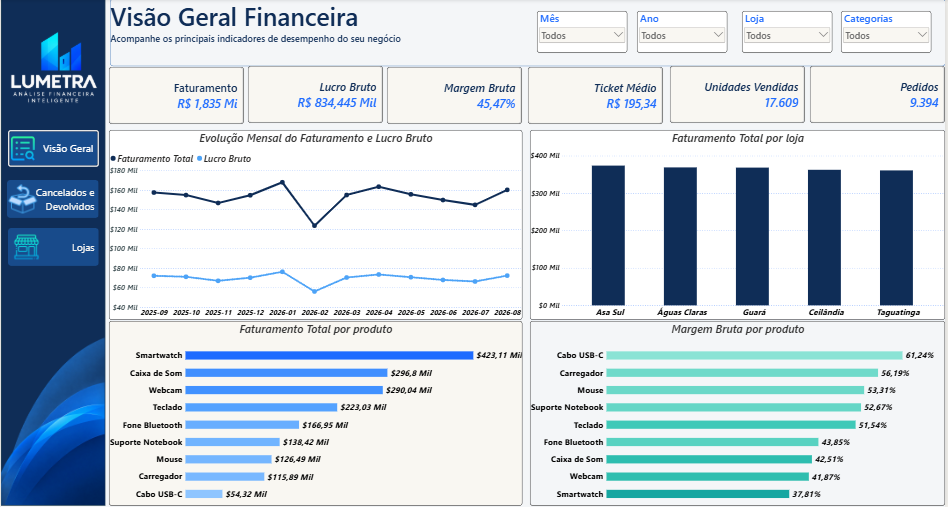

This screenshot's page, from the dashboard's own definition file:
{"tool":"powerbi","page":{"name":"Visão Geral","canvas":[2741,1475],"ordinal":0},"visuals":[{"type":"shape","box":[0,0,302.8,1470.9],"z":0},{"type":"cardVisual","fields":{"Data":["base_financeira_powerbi.Faturamento Total"]},"box":[312.4,197.5,390.9,165.1],"z":1000},{"type":"textbox","box":[315.4,0,2425.6,194.5],"z":2000},{"type":"slicer","title":"M","fields":{"Values":["base_financeira_powerbi.Mes"]},"box":[1556.2,35.4,262.3,120.8],"z":3000},{"type":"lineChart","title":"Evolução Mensal do Faturamento e Lucro Bruto","fields":{"Category":["base_financeira_powerbi.Ano Mes"],"Y":["base_financeira_powerbi.Faturamento Total","base_financeira_powerbi.Lucro Bruto"]},"box":[312.4,380.2,1199.6,551.1],"z":4000},{"type":"columnChart","fields":{"Category":["base_financeira_powerbi.loja"],"Y":["base_financeira_powerbi.Faturamento Total"]},"box":[1535.5,380.2,1205.5,551.1],"z":5000},{"type":"barChart","fields":{"Category":["base_financeira_powerbi.produto"],"Y":["base_financeira_powerbi.Faturamento Total"]},"box":[312.4,934.3,1199.6,536.4],"z":6000},{"type":"clusteredBarChart","fields":{"Category":["base_financeira_powerbi.produto"],"Y":["base_financeira_powerbi.Margem Bruta"]},"box":[1535.5,934.3,1205.5,536.4],"z":7000},{"type":"actionButton","title":"Visão Geral","box":[20.3,379.3,263.5,107.1],"z":8000},{"type":"image","box":[29.5,394.9,69.5,78.2],"z":9000},{"type":"image","box":[0,24.5,302.8,339.4],"z":10000},{"type":"actionButton","title":"Visão Geral","box":[17.4,524.1,266.4,110],"z":11000},{"type":"actionButton","title":"Visão Geral","box":[20.3,666,263.5,110],"z":12000},{"type":"image","box":[29,666,89.8,110],"z":14000},{"type":"image","box":[17.7,524.6,91.4,109.1],"z":15000},{"type":"image","box":[0,932.4,301.1,538.6],"z":17000},{"type":"slicer","title":"M","fields":{"Values":["base_financeira_powerbi.Ano"]},"box":[1848,35.4,262.3,120.8],"z":18000},{"type":"slicer","title":"M","fields":{"Values":["base_financeira_powerbi.loja"]},"box":[2151.5,35.4,262.3,120.8],"z":19000},{"type":"slicer","title":"M","fields":{"Values":["base_financeira_powerbi.categoria"]},"box":[2440.4,35.4,262.3,120.8],"z":20000},{"type":"cardVisual","fields":{"Data":["base_financeira_powerbi.Lucro Bruto"]},"box":[716.2,194.5,390.9,165.1],"z":21000},{"type":"cardVisual","fields":{"Data":["base_financeira_powerbi.Margem Bruta"]},"box":[1120,197.5,390.9,165.1],"z":22000},{"type":"cardVisual","fields":{"Data":["base_financeira_powerbi.Ticket Médio"]},"box":[1529.7,197.5,390.9,165.1],"z":23000},{"type":"cardVisual","fields":{"Data":["base_financeira_powerbi.Unidades Vendidas Card"]},"box":[1942.3,194.5,390.9,165.1],"z":24000},{"type":"cardVisual","fields":{"Data":["base_financeira_powerbi.Pedidos Card"]},"box":[2349,194.5,390.9,165.1],"z":25000}]}

Visuals, with their boxes in screenshot pixels (x1, y1, x2, y2), scaled from the page's 2741x1475 canvas onto the 948x507 screenshot:
shape: detection(0, 0, 105, 506)
cardVisual - base_financeira_powerbi.Faturamento Total: detection(108, 68, 243, 125)
textbox: detection(109, 0, 947, 67)
"M" slicer: detection(538, 12, 629, 54)
"Evolução Mensal do Faturamento e Lucro Bruto" lineChart: detection(108, 131, 523, 320)
columnChart - base_financeira_powerbi.loja x base_financeira_powerbi.Faturamento Total: detection(531, 131, 947, 320)
barChart - base_financeira_powerbi.produto x base_financeira_powerbi.Faturamento Total: detection(108, 321, 523, 506)
clusteredBarChart - base_financeira_powerbi.produto x base_financeira_powerbi.Margem Bruta: detection(531, 321, 947, 506)
"Visão Geral" actionButton: detection(7, 130, 98, 167)
image: detection(10, 136, 34, 163)
image: detection(0, 8, 105, 125)
"Visão Geral" actionButton: detection(6, 180, 98, 218)
"Visão Geral" actionButton: detection(7, 229, 98, 267)
image: detection(10, 229, 41, 267)
image: detection(6, 180, 38, 218)
image: detection(0, 320, 104, 506)
"M" slicer: detection(639, 12, 730, 54)
"M" slicer: detection(744, 12, 835, 54)
"M" slicer: detection(844, 12, 935, 54)
cardVisual - base_financeira_powerbi.Lucro Bruto: detection(248, 67, 383, 124)
cardVisual - base_financeira_powerbi.Margem Bruta: detection(387, 68, 523, 125)
cardVisual - base_financeira_powerbi.Ticket Médio: detection(529, 68, 664, 125)
cardVisual - base_financeira_powerbi.Unidades Vendidas Card: detection(672, 67, 807, 124)
cardVisual - base_financeira_powerbi.Pedidos Card: detection(812, 67, 947, 124)
